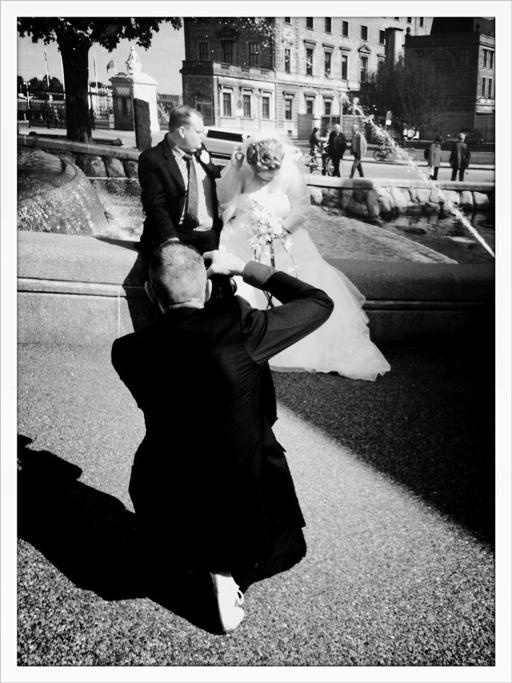non-vehicle: (300, 141, 334, 176), (373, 143, 396, 162)
